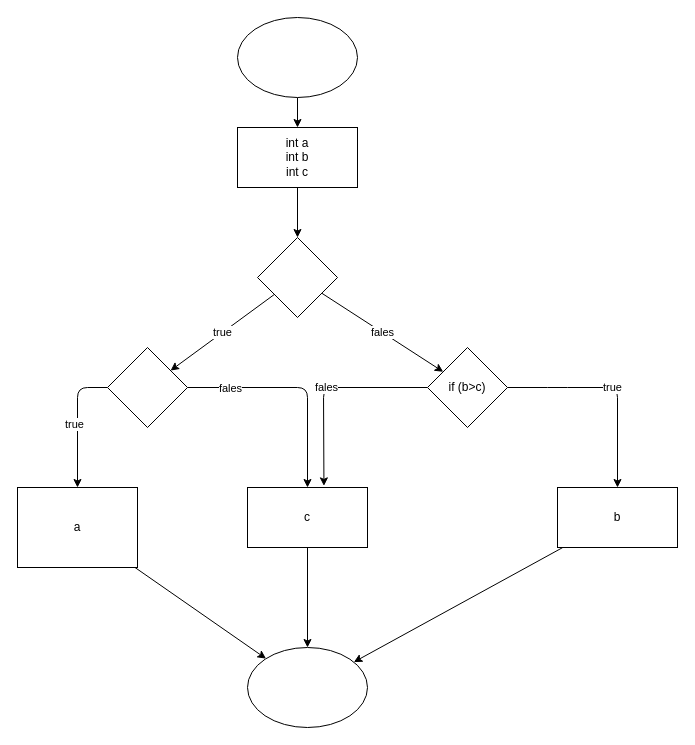
Some shapes in this 695 by 745 pixel diagram are drawn without their labels. The shapes that lost their labels are listed below. From the top down, each one's centre as x and y in pixels, then its label:
(x=297, y=277): if (a>b)
(x=147, y=387): if (a>c)
